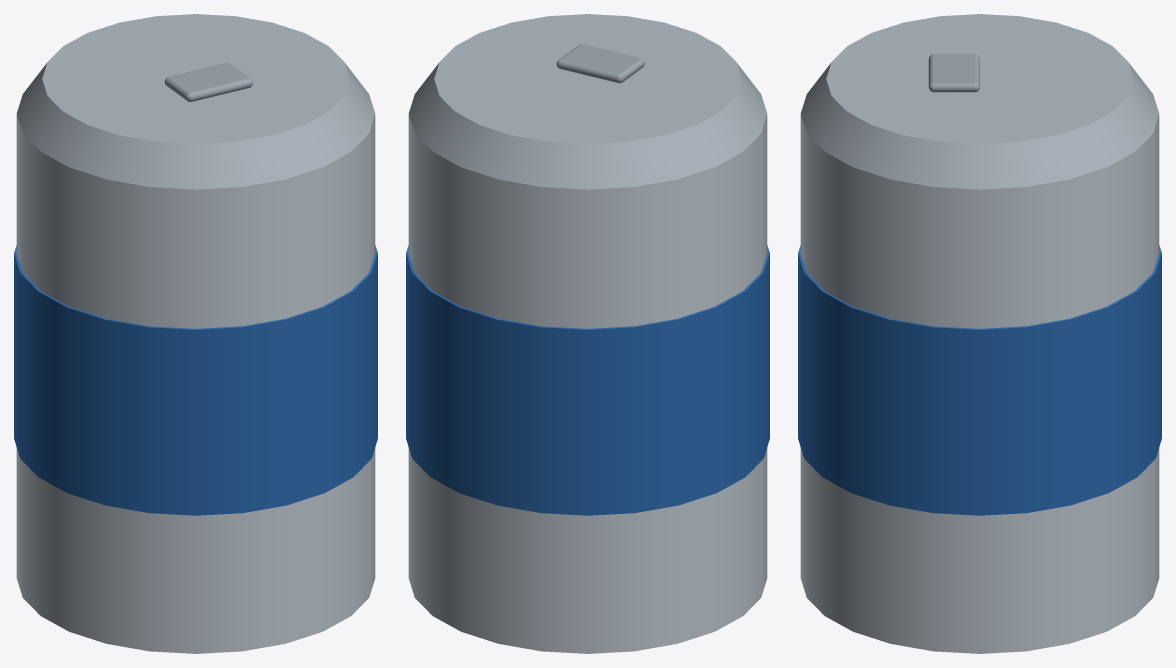
The model's file is can.glb.
The picture shows the model from 3 angles, left to right: view 1: azimuth 30°, elevation 25°; view 2: azimuth 150°, elevation 25°; view 3: azimuth 270°, elevation 25°; orthographic projection.
Parts seen in each view (by area): view 1: Body, Band, Rim, Tab; view 2: Body, Band, Rim, Tab; view 3: Body, Band, Rim, Tab.
Part boxes in pixels (x1,y1,x2,y2): Body: [16, 114, 375, 653]; Band: [14, 245, 377, 515]; Rim: [16, 14, 375, 189]; Tab: [164, 63, 252, 101]; Body: [408, 114, 767, 653]; Band: [406, 245, 769, 515]; Rim: [408, 14, 767, 189]; Tab: [556, 44, 644, 83]; Body: [800, 114, 1159, 653]; Band: [798, 245, 1161, 515]; Rim: [800, 14, 1159, 189]; Tab: [928, 54, 979, 92].
Bounding box in the file's own units: 0.284 × 0.439 × 0.284.
